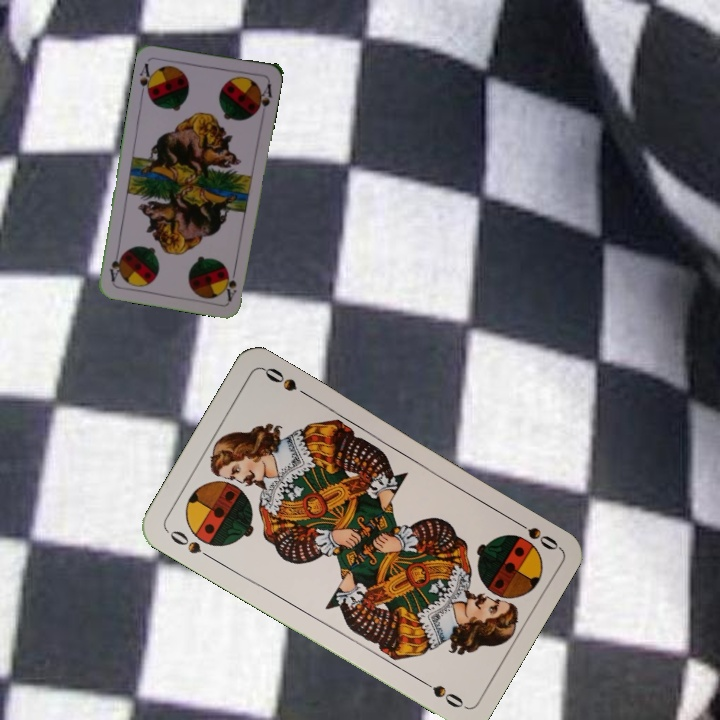SA: (135, 59, 157, 98), (222, 263, 239, 303)
SO: (507, 514, 561, 553), (163, 526, 216, 563)
